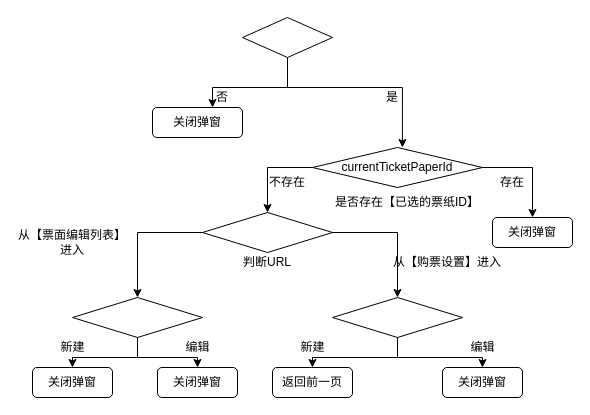
The diagram is 590 pixels wide and 415 high, and some of its shapes have lost their labels. The centre of each missing label's shape, as x and y in pixels:
"query. ticketFaceId" belongs at point 397,317.
"query.event" belongs at point 267,232.
"query.ticketFaceId" belongs at point 137,317.
"灰度" belongs at point 287,37.
